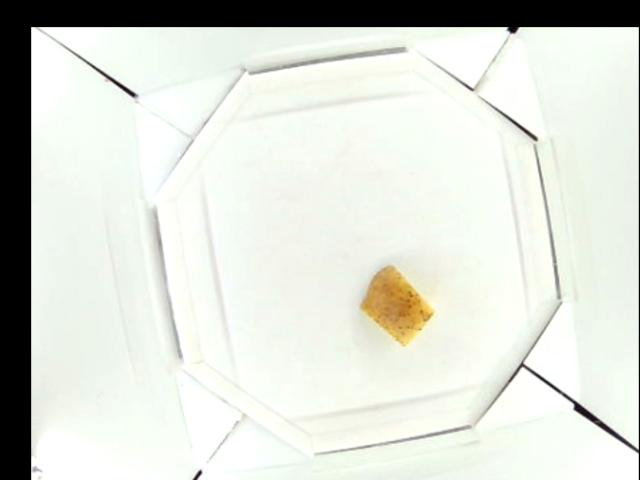Potato: (360, 264, 438, 344)
